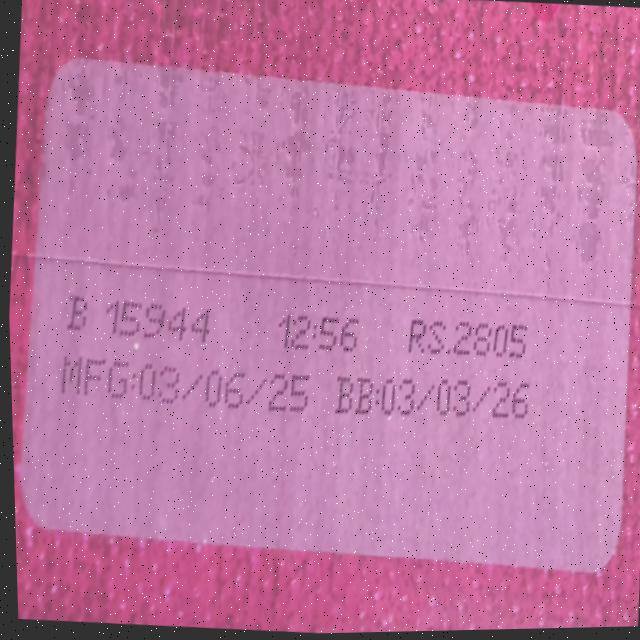BB: (332, 363, 542, 453)
Batch: (58, 270, 229, 362)
MFG: (54, 344, 315, 439)
RS: (400, 295, 535, 375)
TimeStamp: (266, 288, 375, 366)
